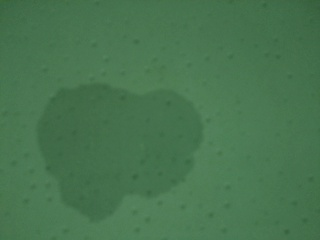Water_detected: (59, 99, 180, 206)
